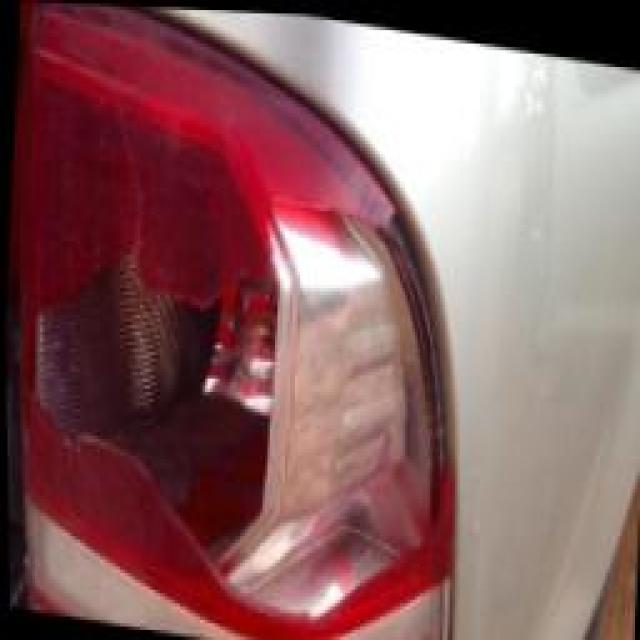Light: (8, 60, 450, 640)
